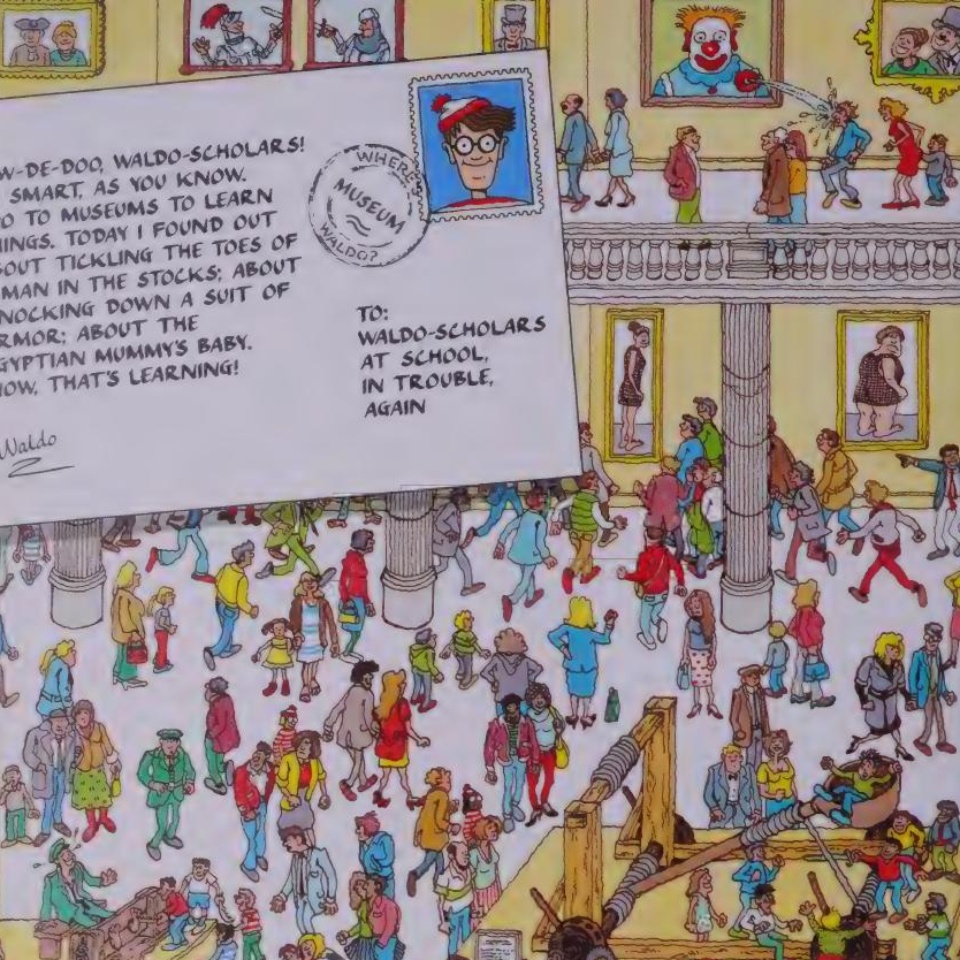waldo: (430, 94, 531, 209)
